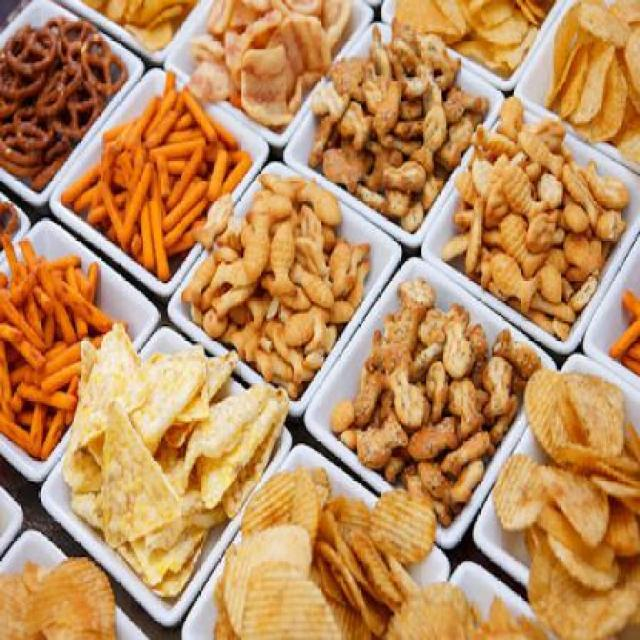Chips packaged: (76, 306, 256, 576), (514, 374, 638, 616)
Salatini packaged: (450, 85, 601, 323), (342, 285, 518, 489), (212, 178, 352, 374), (317, 41, 469, 217), (3, 22, 122, 180)
